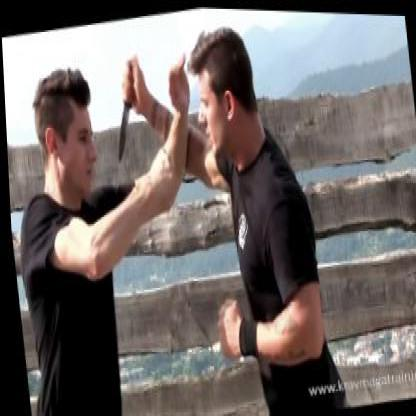knife: (101, 51, 152, 168)
